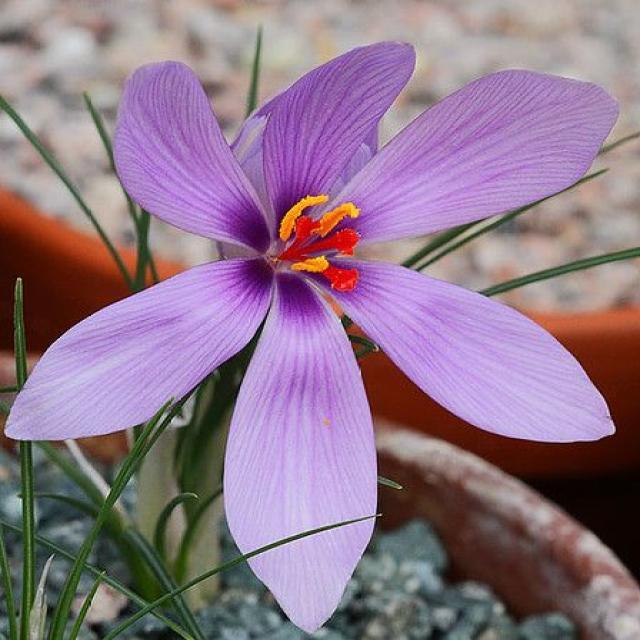Flower: (7, 43, 618, 632)
stigma: (304, 224, 366, 260), (321, 264, 366, 298), (288, 210, 320, 254)
